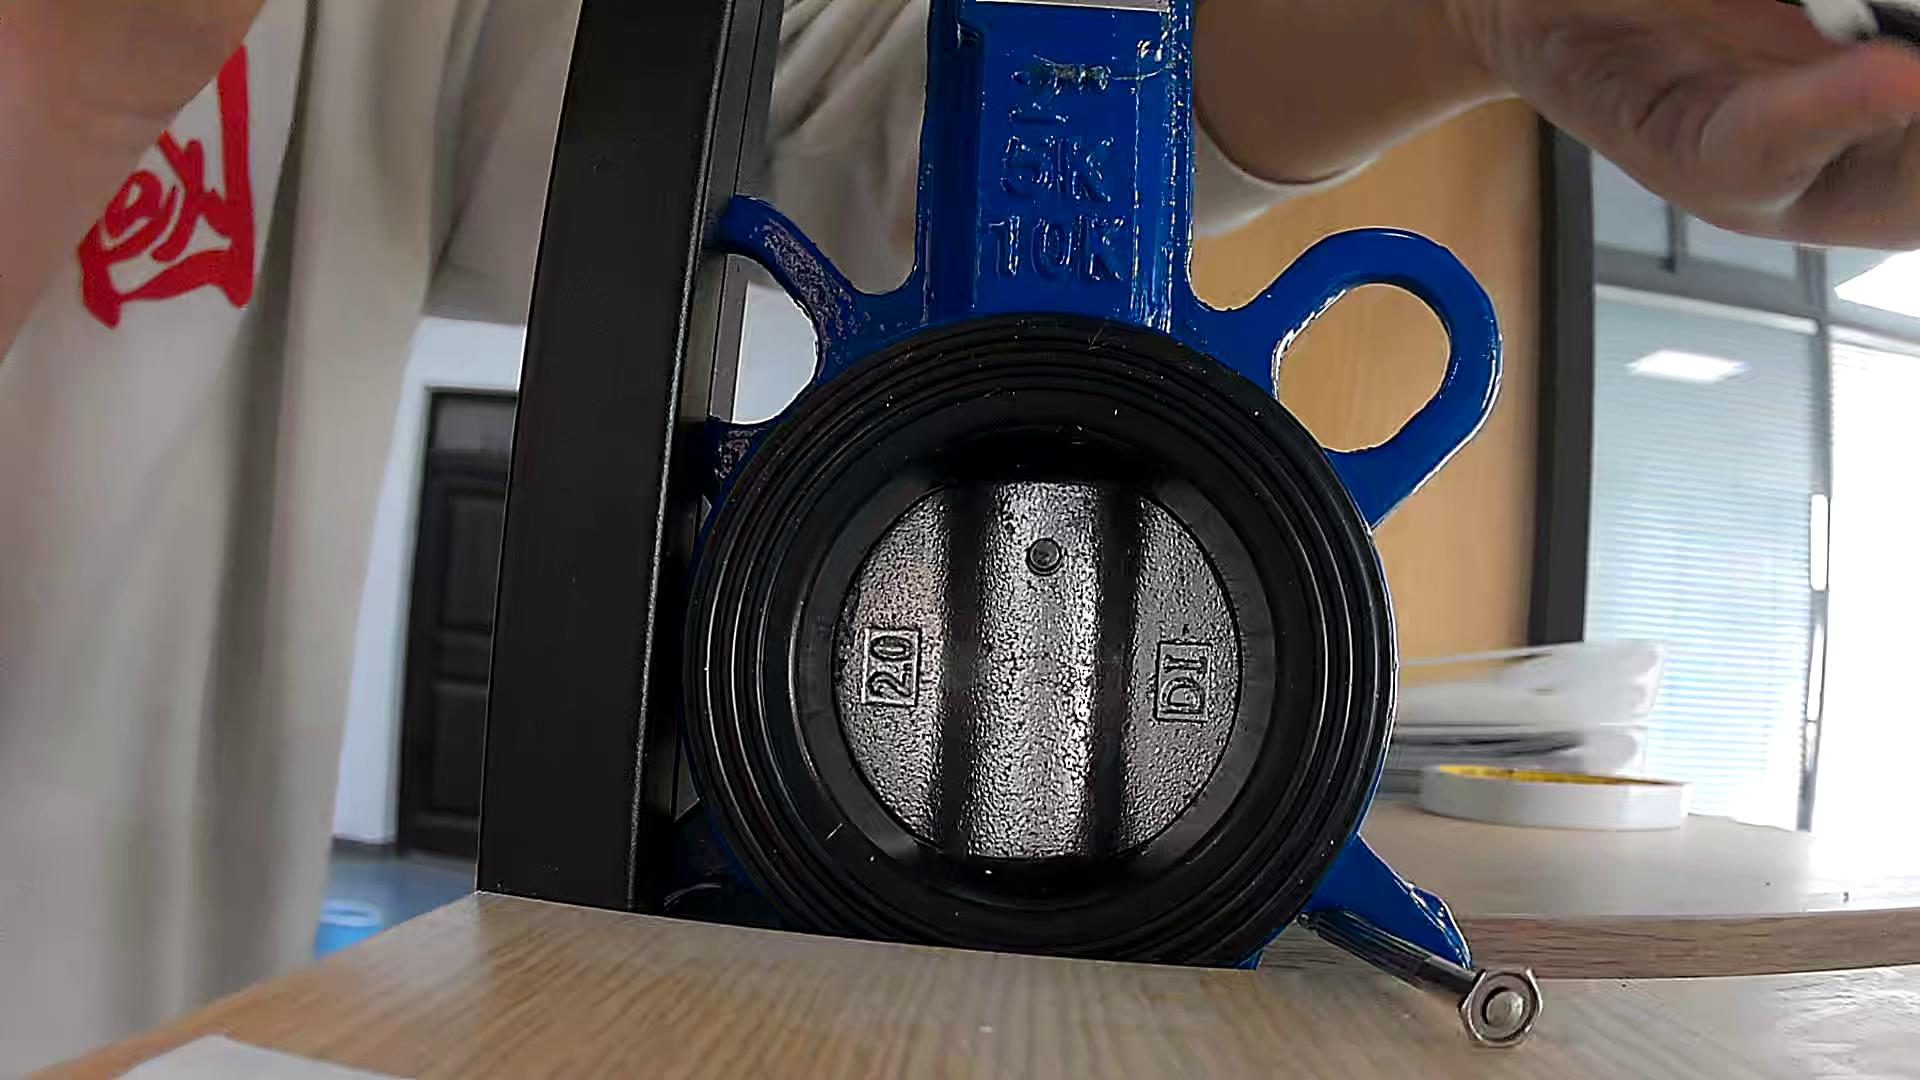valve: (836, 480, 1241, 859)
